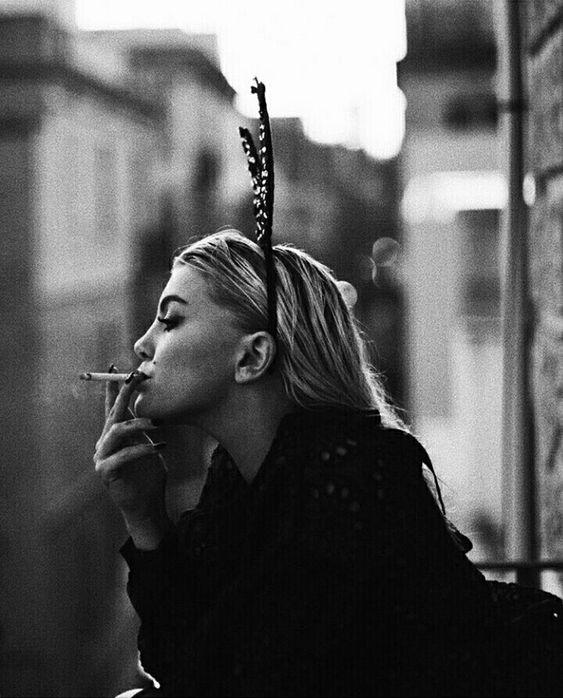cigarette: (79, 373, 147, 381)
